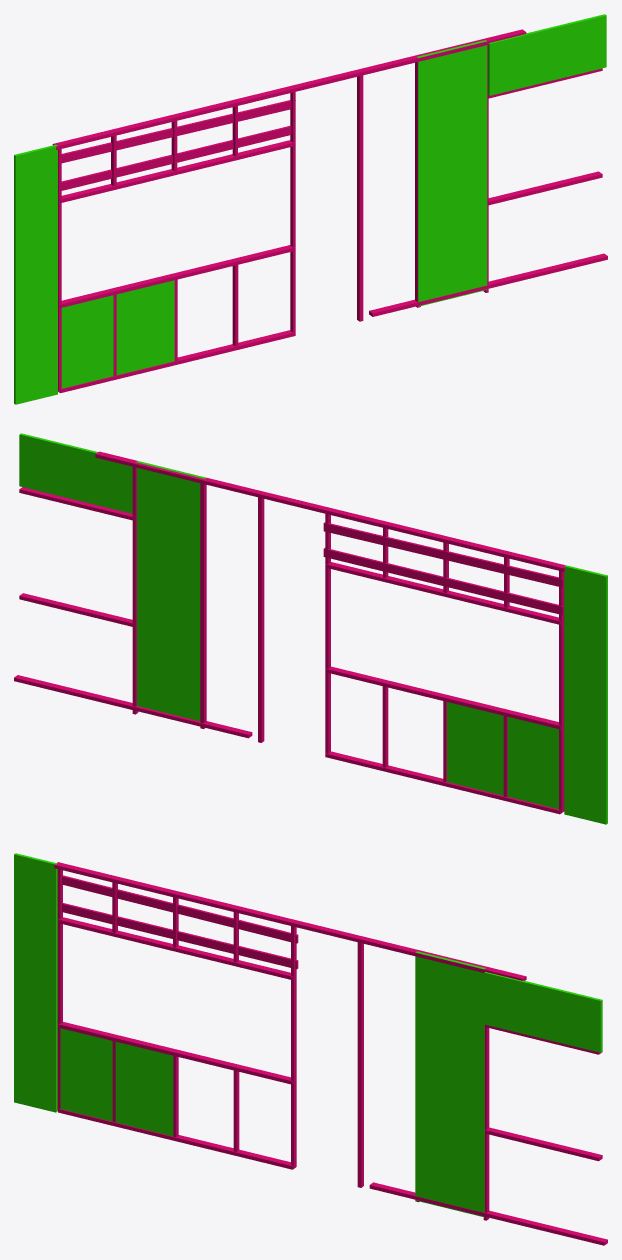
The model's file is BH03_Wall_05_Break_B.fbx.
3 renders of one model, top to bottom at view 1: azimuth 30°, elevation 25°; view 2: azimuth 150°, elevation 25°; view 3: azimuth 330°, elevation 25°, orthographic.
Visible parts, largest first — view 1: BH03_Wall_05_Break_B; view 2: BH03_Wall_05_Break_B; view 3: BH03_Wall_05_Break_B.
Part boxes in pixels (bbox=[...]): BH03_Wall_05_Break_B: bbox=[14, 14, 607, 404]; BH03_Wall_05_Break_B: bbox=[14, 433, 607, 824]; BH03_Wall_05_Break_B: bbox=[14, 853, 607, 1245].
Bounding box in the file's own units: 862 × 351 × 12.18.
